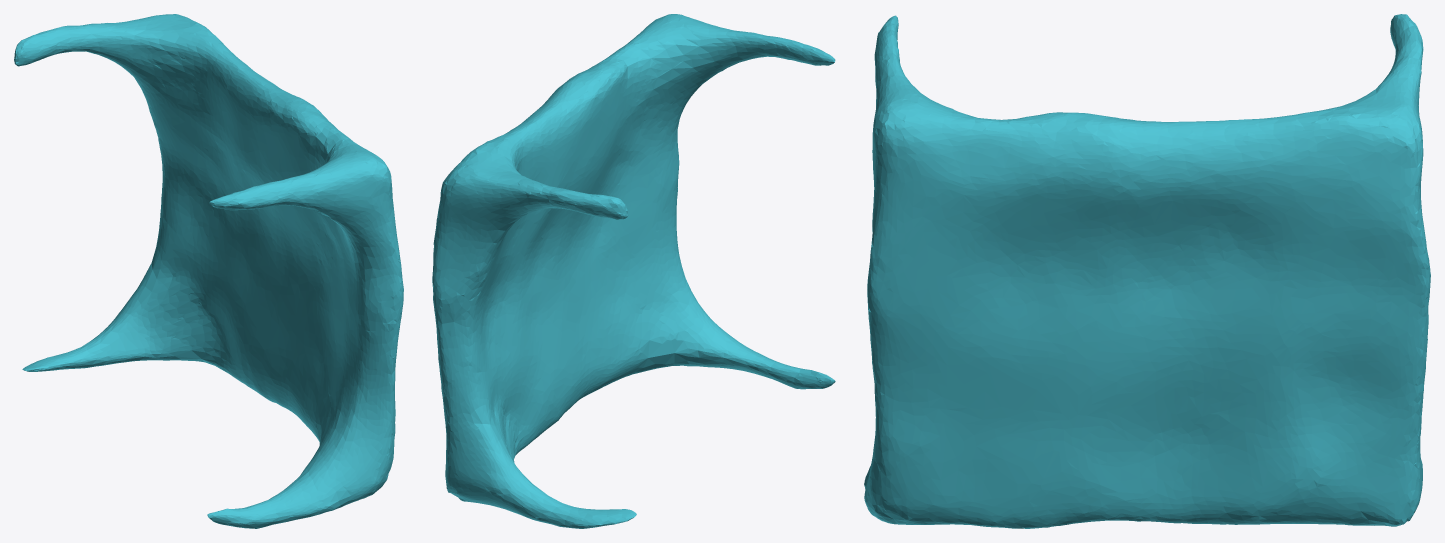
The picture shows the model from 3 angles, left to right: view 1: azimuth 30°, elevation 25°; view 2: azimuth 150°, elevation 25°; view 3: azimuth 270°, elevation 25°; orthographic projection. The views are drawn at different scales.
Visible parts, largest first — view 1: Renderer Node; view 2: Renderer Node; view 3: Renderer Node.
Part boxes in pixels (x1,y1,x2,y2): Renderer Node: (14, 14, 403, 528); Renderer Node: (432, 14, 835, 528); Renderer Node: (864, 14, 1430, 528).
Size of the model in its own units: 0.3609 by 0.6038 by 0.7215.
1 material, 1 textured.
